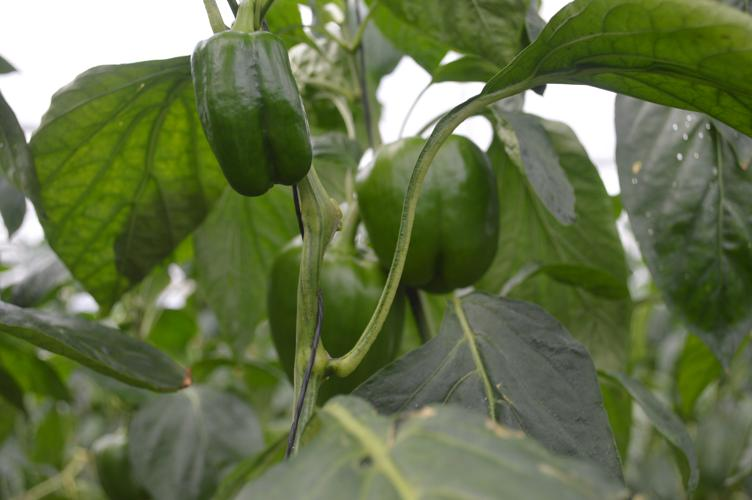BellPepper: (359, 134, 496, 292), (267, 247, 403, 398), (191, 32, 315, 191)
